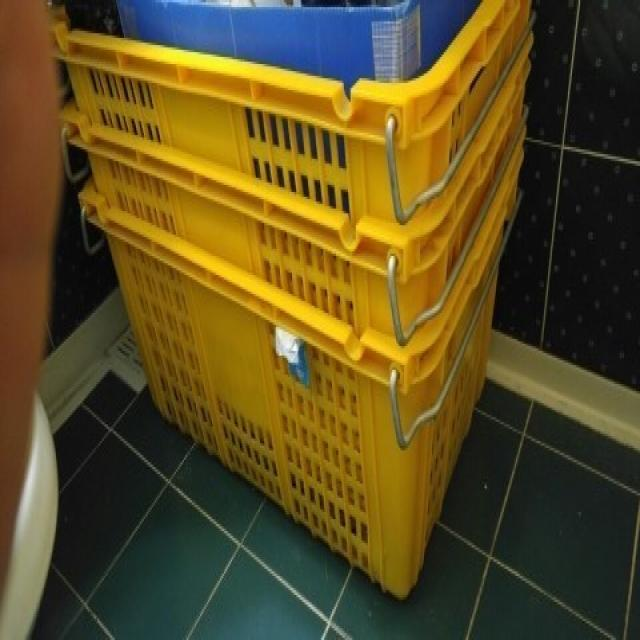basket: (55, 0, 533, 596), (68, 38, 540, 344)
